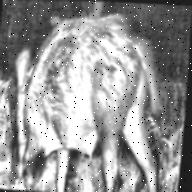boar: (0, 2, 177, 192)
